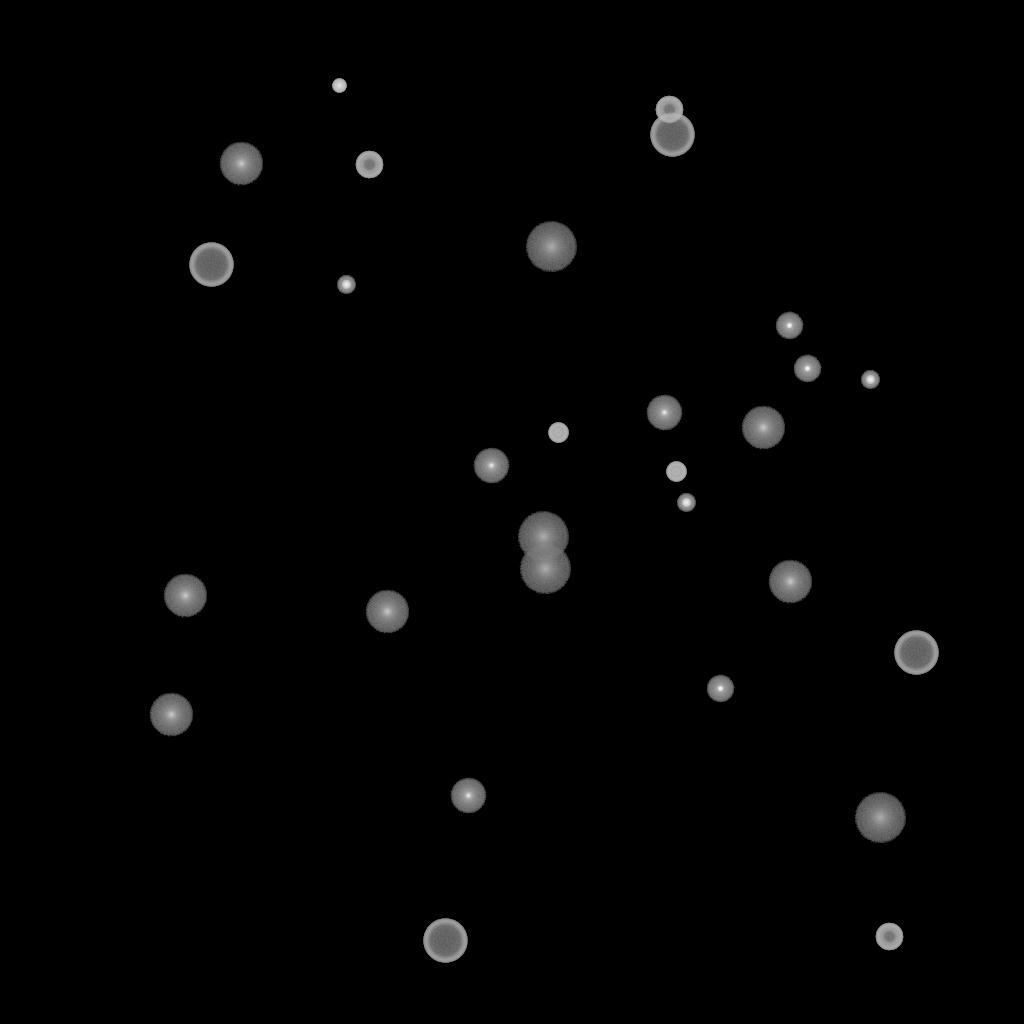depth:-10: (706, 675, 734, 703), (793, 355, 821, 383), (775, 312, 803, 340)
depth:-20: (677, 494, 695, 512), (337, 276, 355, 294), (861, 371, 879, 389)
depth:-30: (332, 79, 346, 93)
depth:-40: (666, 462, 686, 482), (548, 423, 568, 443)
depth:-50: (875, 923, 903, 951), (655, 96, 683, 124), (355, 151, 383, 179)
depth:-70: (650, 113, 694, 157), (189, 243, 233, 287), (894, 631, 938, 675), (423, 919, 467, 963)
depth:0: (450, 778, 486, 814), (473, 448, 509, 484), (646, 395, 682, 431)
depth:10: (163, 574, 207, 618), (219, 142, 263, 186), (741, 406, 785, 450), (149, 693, 193, 737), (365, 590, 409, 634), (768, 560, 812, 604)
depth:20: (854, 793, 906, 843), (519, 544, 571, 594), (525, 222, 577, 272), (517, 512, 569, 562)
